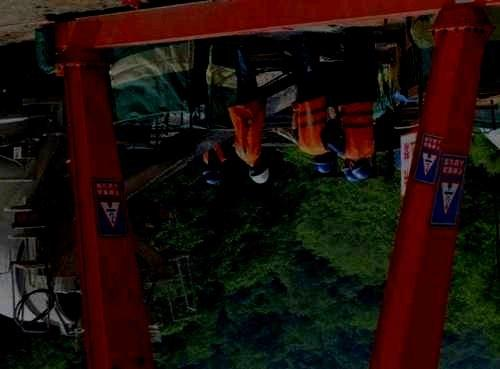helmet: (248, 162, 269, 184), (350, 159, 372, 180), (202, 164, 223, 185), (312, 154, 333, 174), (342, 160, 358, 182)
